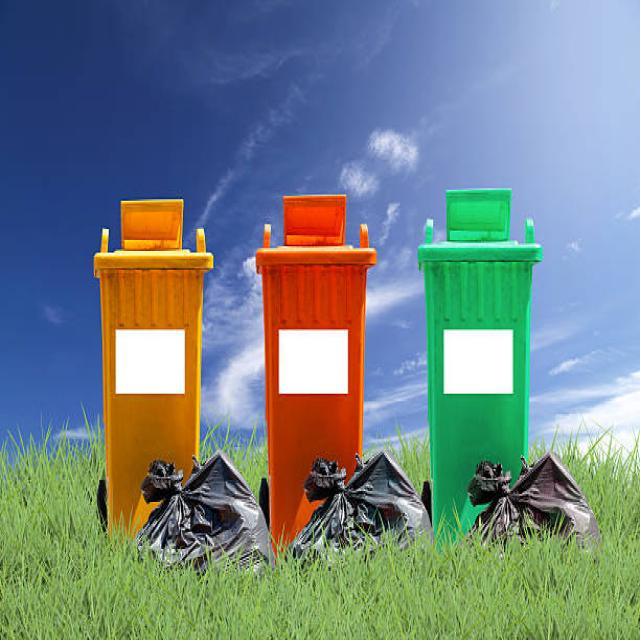trash: (139, 461, 609, 587)
